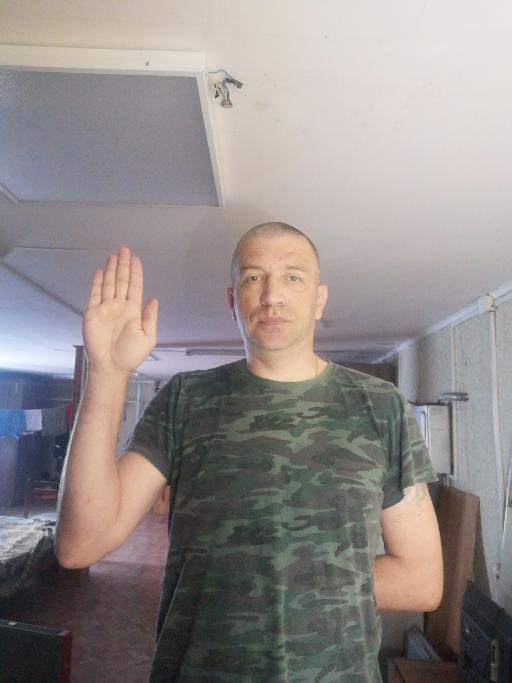stop: (80, 244, 159, 375)
